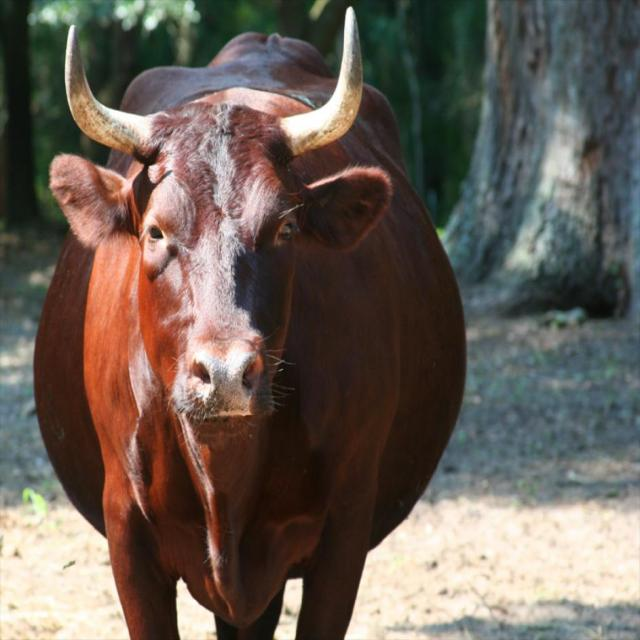Cattle: (33, 7, 467, 640)
